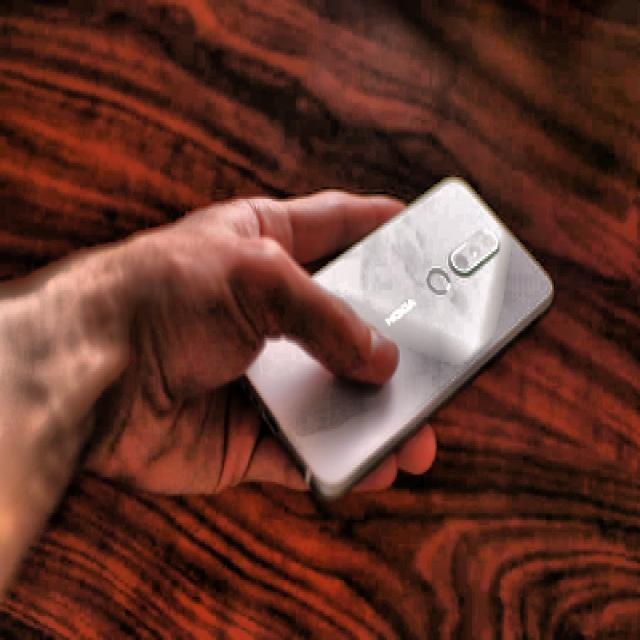Phone: (242, 172, 556, 493)
